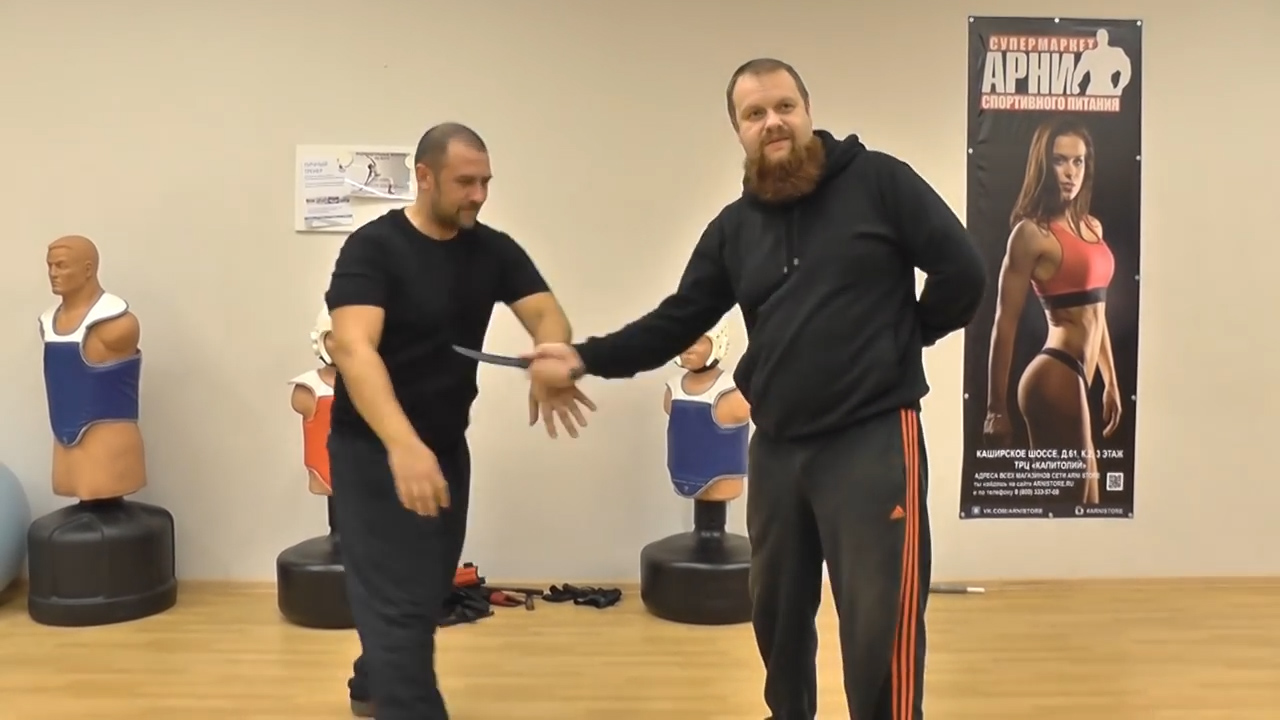knife: (444, 334, 572, 387)
